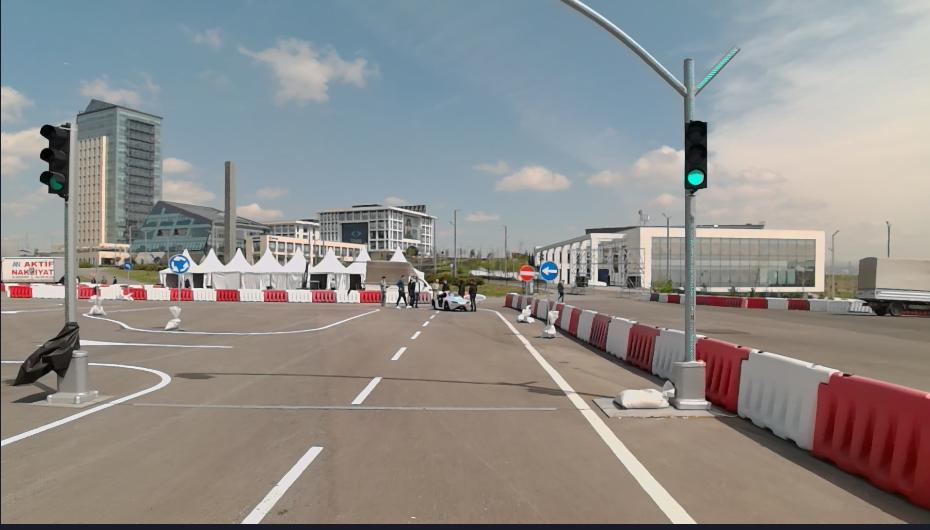nesne: (0, 301, 697, 528), (236, 304, 697, 525), (0, 303, 441, 529), (480, 307, 697, 527), (695, 330, 928, 508), (563, 0, 743, 120), (809, 372, 926, 507), (2, 362, 171, 446), (556, 301, 687, 378), (734, 347, 825, 448), (11, 322, 108, 411), (82, 307, 383, 335), (589, 359, 736, 414), (242, 442, 324, 526), (693, 328, 752, 412), (859, 257, 928, 314), (38, 118, 76, 202), (681, 193, 699, 357), (181, 288, 380, 302), (647, 327, 686, 381), (683, 119, 708, 192), (0, 255, 65, 281), (749, 297, 869, 311), (626, 320, 658, 372), (83, 336, 231, 347), (63, 200, 75, 321), (605, 316, 633, 361), (352, 373, 384, 403), (588, 312, 611, 352), (807, 298, 865, 313), (430, 292, 472, 311), (577, 309, 595, 343), (393, 268, 408, 307), (565, 308, 584, 338), (164, 303, 183, 329), (542, 310, 560, 337), (696, 295, 739, 306), (31, 285, 64, 299), (408, 276, 422, 306), (540, 261, 560, 282), (168, 254, 190, 272), (559, 305, 573, 333), (378, 274, 389, 308), (466, 276, 477, 310), (98, 285, 121, 301), (93, 225, 98, 295), (89, 296, 108, 313), (192, 288, 216, 301), (237, 289, 263, 301), (517, 303, 533, 322), (6, 286, 31, 298), (335, 291, 361, 302), (145, 288, 168, 300), (286, 291, 311, 302), (391, 344, 408, 360), (311, 291, 337, 301), (264, 290, 288, 300), (789, 298, 809, 310), (217, 290, 238, 301), (456, 275, 467, 296), (768, 297, 789, 308), (519, 265, 535, 279), (77, 285, 94, 298), (360, 291, 379, 302), (558, 278, 566, 301), (555, 304, 563, 327), (537, 300, 546, 319), (441, 275, 451, 292), (503, 290, 513, 307), (749, 297, 767, 306), (431, 276, 441, 292), (530, 297, 537, 318), (547, 280, 550, 325), (177, 272, 181, 305), (740, 294, 748, 310), (132, 289, 146, 298), (510, 293, 518, 308), (667, 294, 680, 303), (524, 279, 528, 308), (636, 293, 650, 301), (122, 290, 132, 301), (181, 289, 191, 300), (659, 292, 669, 303), (183, 276, 191, 289), (124, 262, 134, 271), (170, 289, 177, 301), (516, 293, 521, 309), (127, 270, 130, 293), (650, 293, 658, 301)
